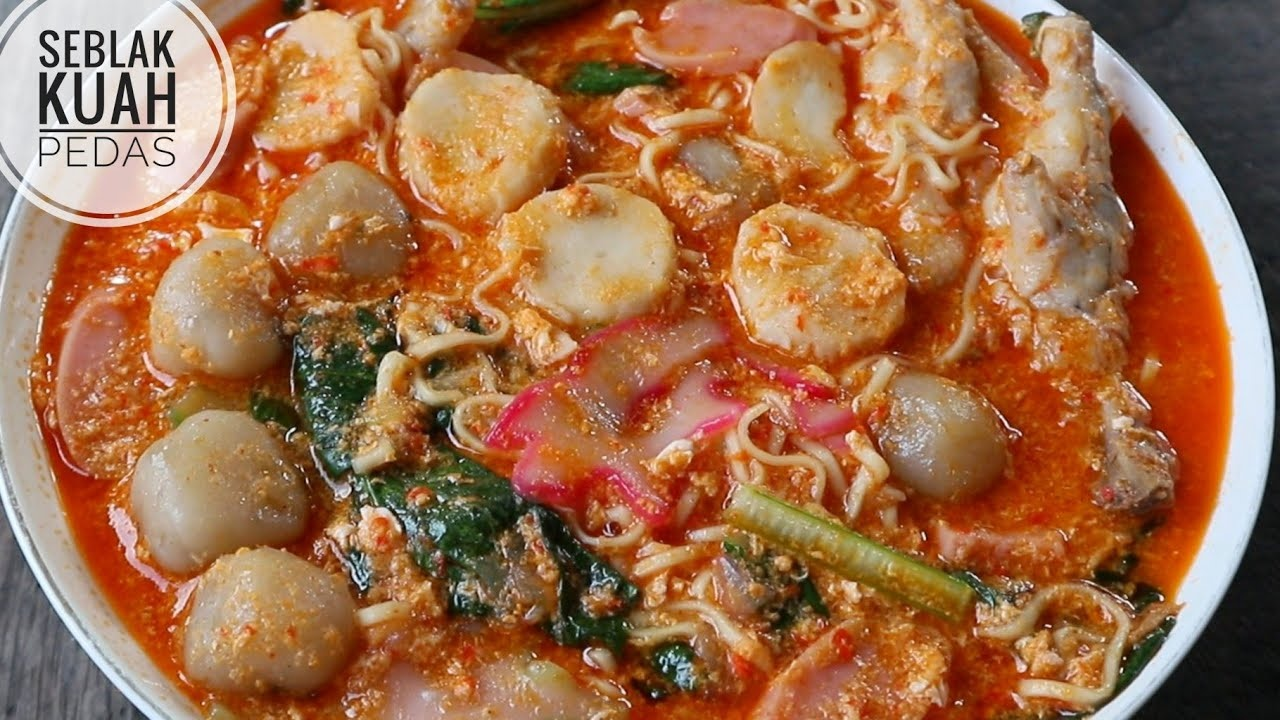seblak: (242, 1, 1185, 720)
